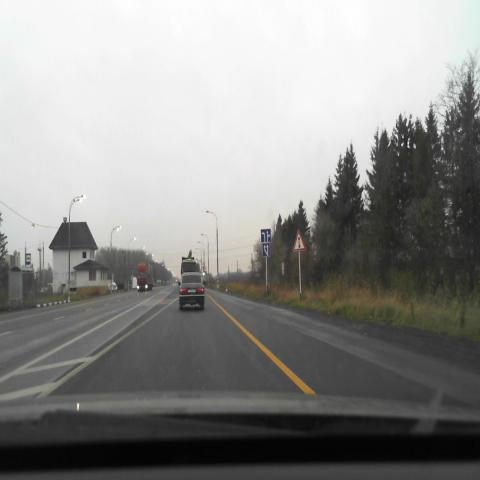1_8: (292, 229, 306, 252)
